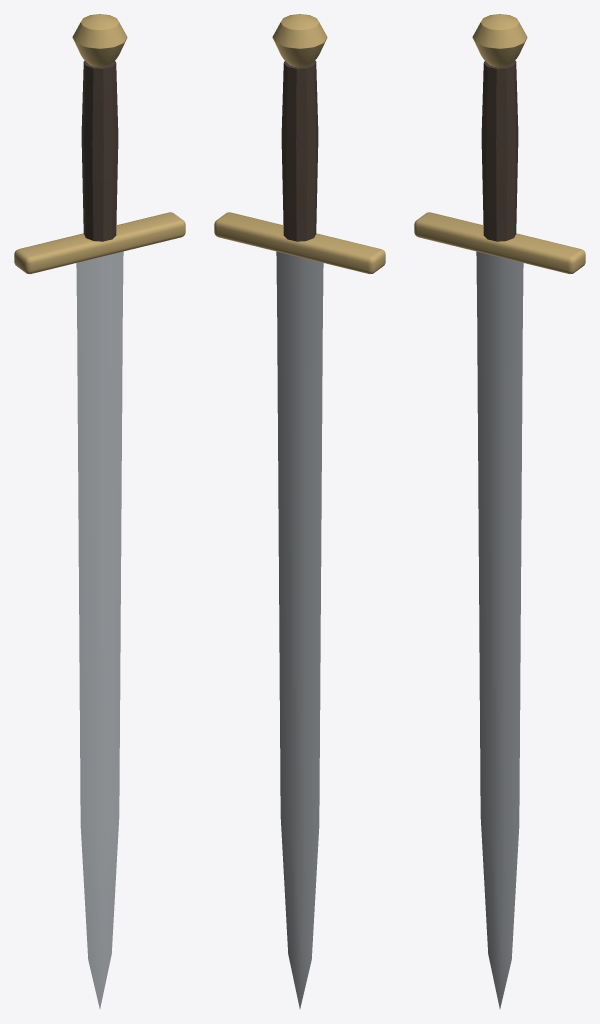
Rendered from greatsword.glb.
3 views of the same model, side by side, from view 1: azimuth 30°, elevation 25°; view 2: azimuth 150°, elevation 25°; view 3: azimuth 330°, elevation 25° (orthographic).
Parts seen in each view (by area): view 1: greatsword; view 2: greatsword; view 3: greatsword.
Boxes of the visible parts, box(x1,y1,x2,y2) form: greatsword: box(14, 14, 185, 1008); greatsword: box(214, 14, 385, 1008); greatsword: box(414, 14, 585, 1008).
Size of the model in its own units: 0.255 by 1.51 by 0.076.
